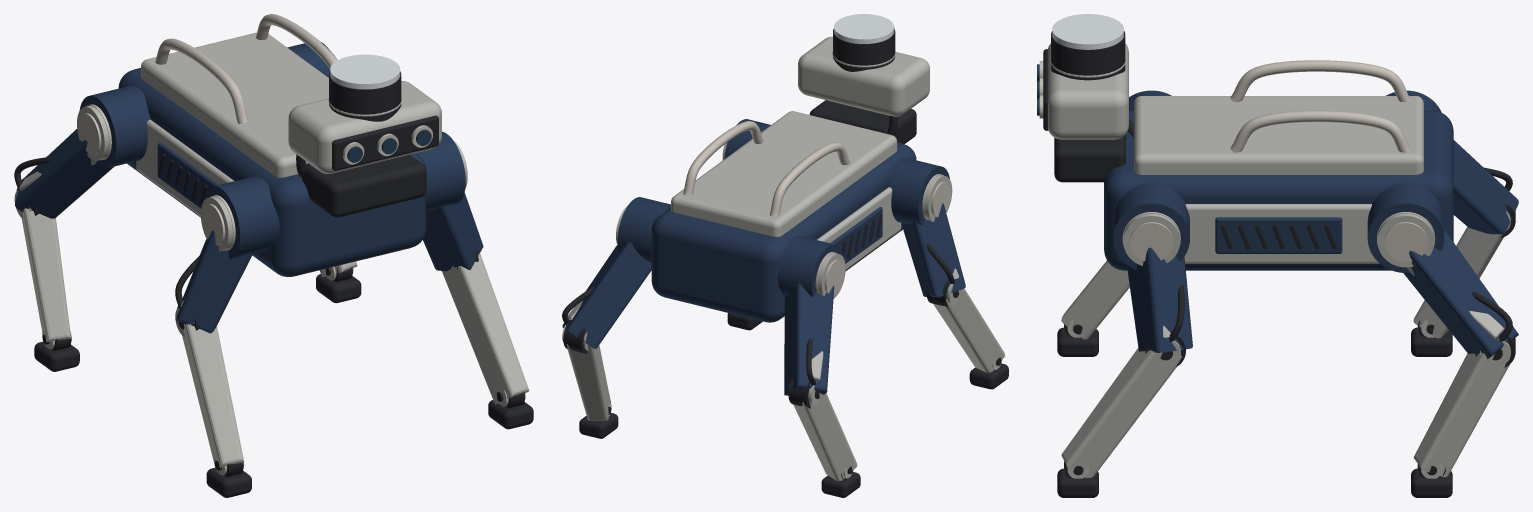
File: robots-19.glb
3 views of the same model, side by side, from view 1: azimuth 30°, elevation 25°; view 2: azimuth 150°, elevation 25°; view 3: azimuth 270°, elevation 25° (orthographic). The views are drawn at different scales.
Visible parts, largest first — view 1: body, shins, thighs, head, hips, feet, scanner, optics, handles, hip-caps, vent, loom; view 2: body, thighs, head, shins, hips, scanner, feet, handles, hip-caps, knees, vent, loom; view 3: body, shins, thighs, head, hips, handles, vent, feet, hip-caps, scanner, knees, loom (+1 smaller).
Boxes of the visible parts, box(x1,y1,x2,y2) form: body: box(118, 32, 426, 276); shins: box(21, 208, 529, 469); thighs: box(15, 129, 483, 333); head: box(288, 81, 441, 217); hips: box(79, 42, 465, 259); feet: box(34, 267, 533, 497); scanner: box(328, 54, 401, 121); optics: box(332, 115, 438, 170); handles: box(155, 14, 337, 123); hip-caps: box(77, 50, 467, 251); vent: box(157, 143, 218, 208); loom: box(14, 154, 306, 309); body: box(651, 111, 916, 322); thighs: box(562, 203, 965, 395); head: box(798, 36, 929, 144); shins: box(566, 288, 1004, 481); hips: box(617, 119, 949, 297); scanner: box(832, 14, 895, 71); feet: box(579, 313, 1008, 497); handles: box(683, 121, 850, 216); hip-caps: box(616, 143, 952, 298); knees: box(562, 280, 958, 408); vent: box(830, 207, 882, 263); loom: box(562, 116, 954, 385); body: box(1104, 96, 1453, 270); shins: box(1061, 227, 1509, 477); thighs: box(1127, 140, 1518, 358); head: box(1048, 43, 1128, 182); hips: box(1113, 90, 1444, 272); handles: box(1230, 60, 1410, 152); vent: box(1215, 217, 1342, 253); feet: box(1057, 319, 1452, 497); hip-caps: box(1123, 213, 1434, 267); scanner: box(1050, 14, 1125, 80); knees: box(1145, 205, 1515, 367); loom: box(1128, 118, 1512, 342).
Bounding box in the file's own units: 1.86 × 2.18 × 2.42.
